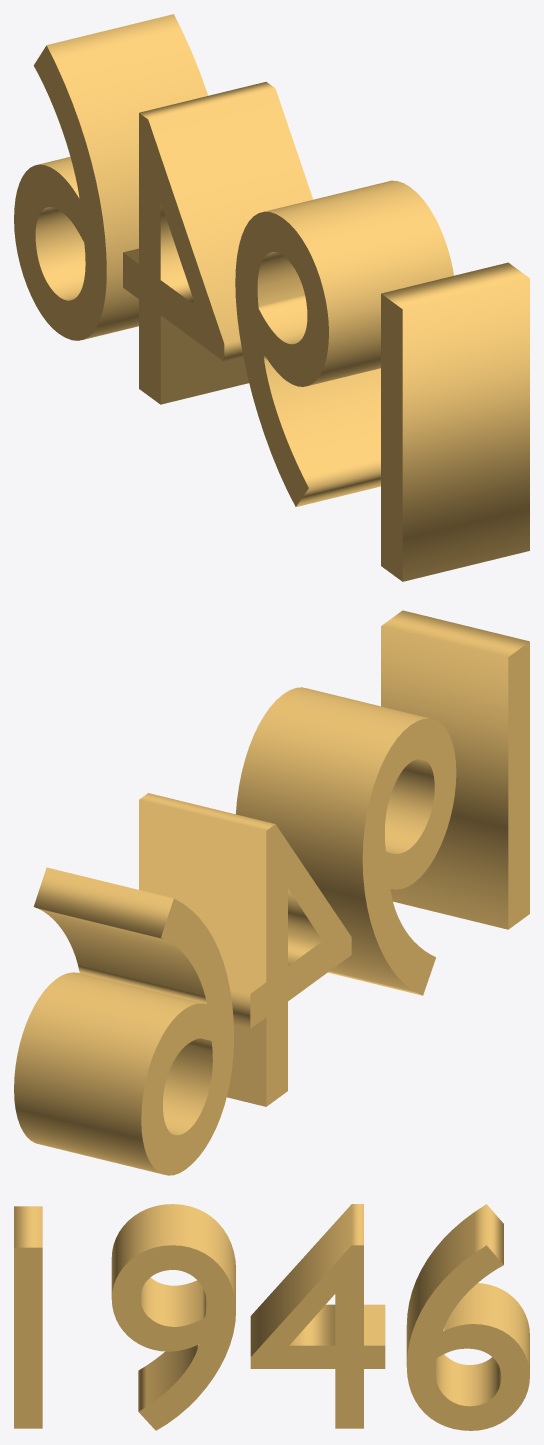
File: scene_date_1946.glb
3 renders of one model, top to bottom at view 1: azimuth 30°, elevation 25°; view 2: azimuth 150°, elevation 25°; view 3: azimuth 270°, elevation 25°, orthographic. The views are drawn at different scales.
Visible parts, largest first — view 1: Text; view 2: Text; view 3: Text.
Boxes of the visible parts, box(x1,y1,x2,y2) form: Text: box(14, 14, 529, 581); Text: box(14, 610, 529, 1175); Text: box(14, 1204, 529, 1430).
Size of the model in its own units: 1 by 2.1 by 5.29.
